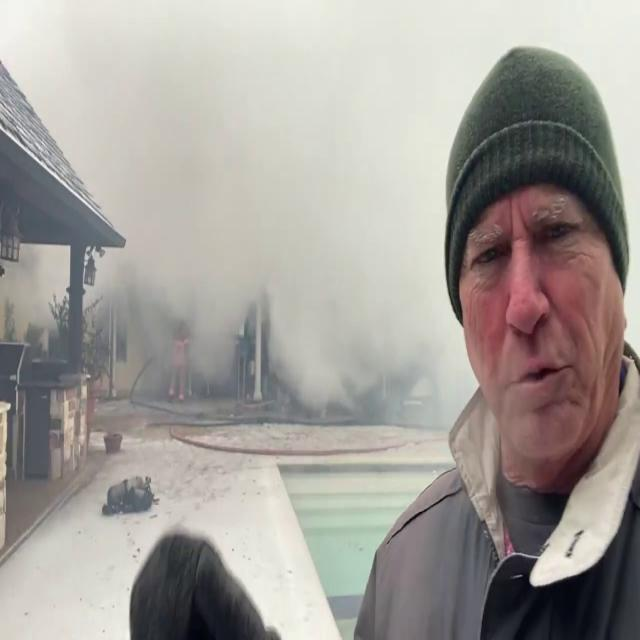Smoke: (102, 0, 482, 434)
